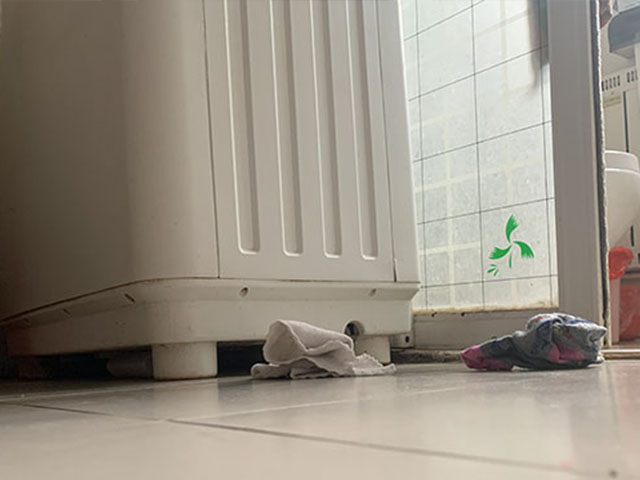socks: (248, 318, 396, 381), (458, 311, 610, 372)
